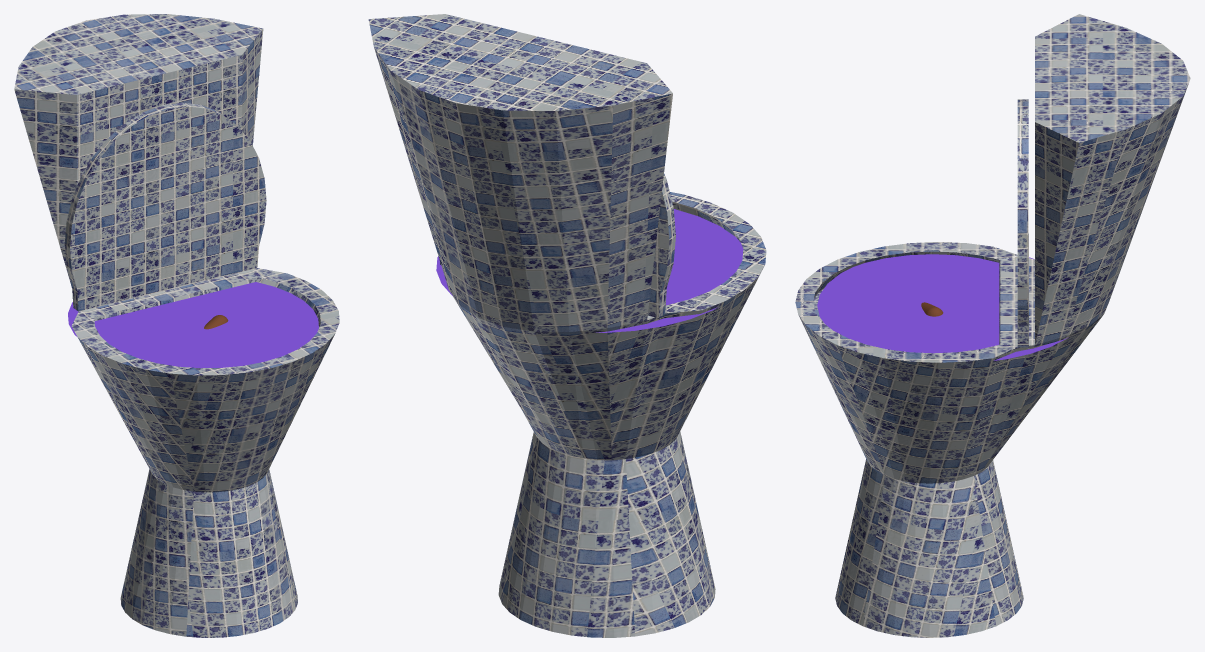
The model's file is toilet.fbx.
3 renders of one model, left to right at view 1: azimuth 30°, elevation 25°; view 2: azimuth 150°, elevation 25°; view 3: azimuth 270°, elevation 25°, orthographic. The views are drawn at different scales.
Parts seen in each view (by area): view 1: toilet; view 2: toilet; view 3: toilet.
Boxes of the visible parts, box(x1,y1,x2,y2) form: toilet: box(14, 14, 339, 637); toilet: box(368, 14, 766, 637); toilet: box(795, 14, 1190, 637).
Bounding box in the file's own units: 192 × 361 × 249.
3 materials, 1 textured.
